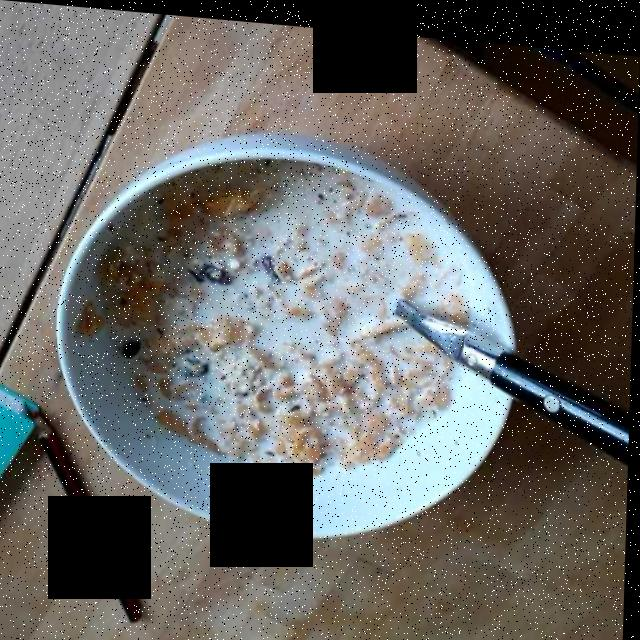dried-raisins: (121, 234, 289, 380), (167, 228, 284, 395)
milk: (128, 165, 470, 467), (101, 206, 464, 460)
muesli: (108, 166, 452, 466), (97, 171, 435, 464)
